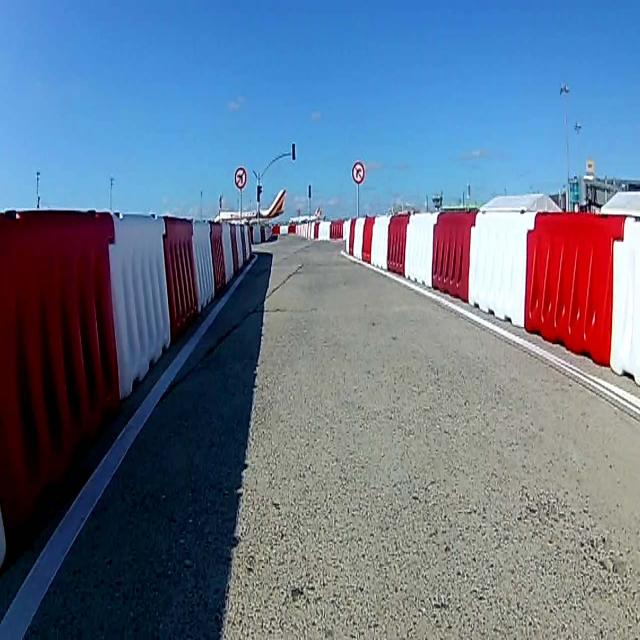sagadonulmez: (352, 161, 365, 185)
soladonulmez: (235, 167, 248, 189)
